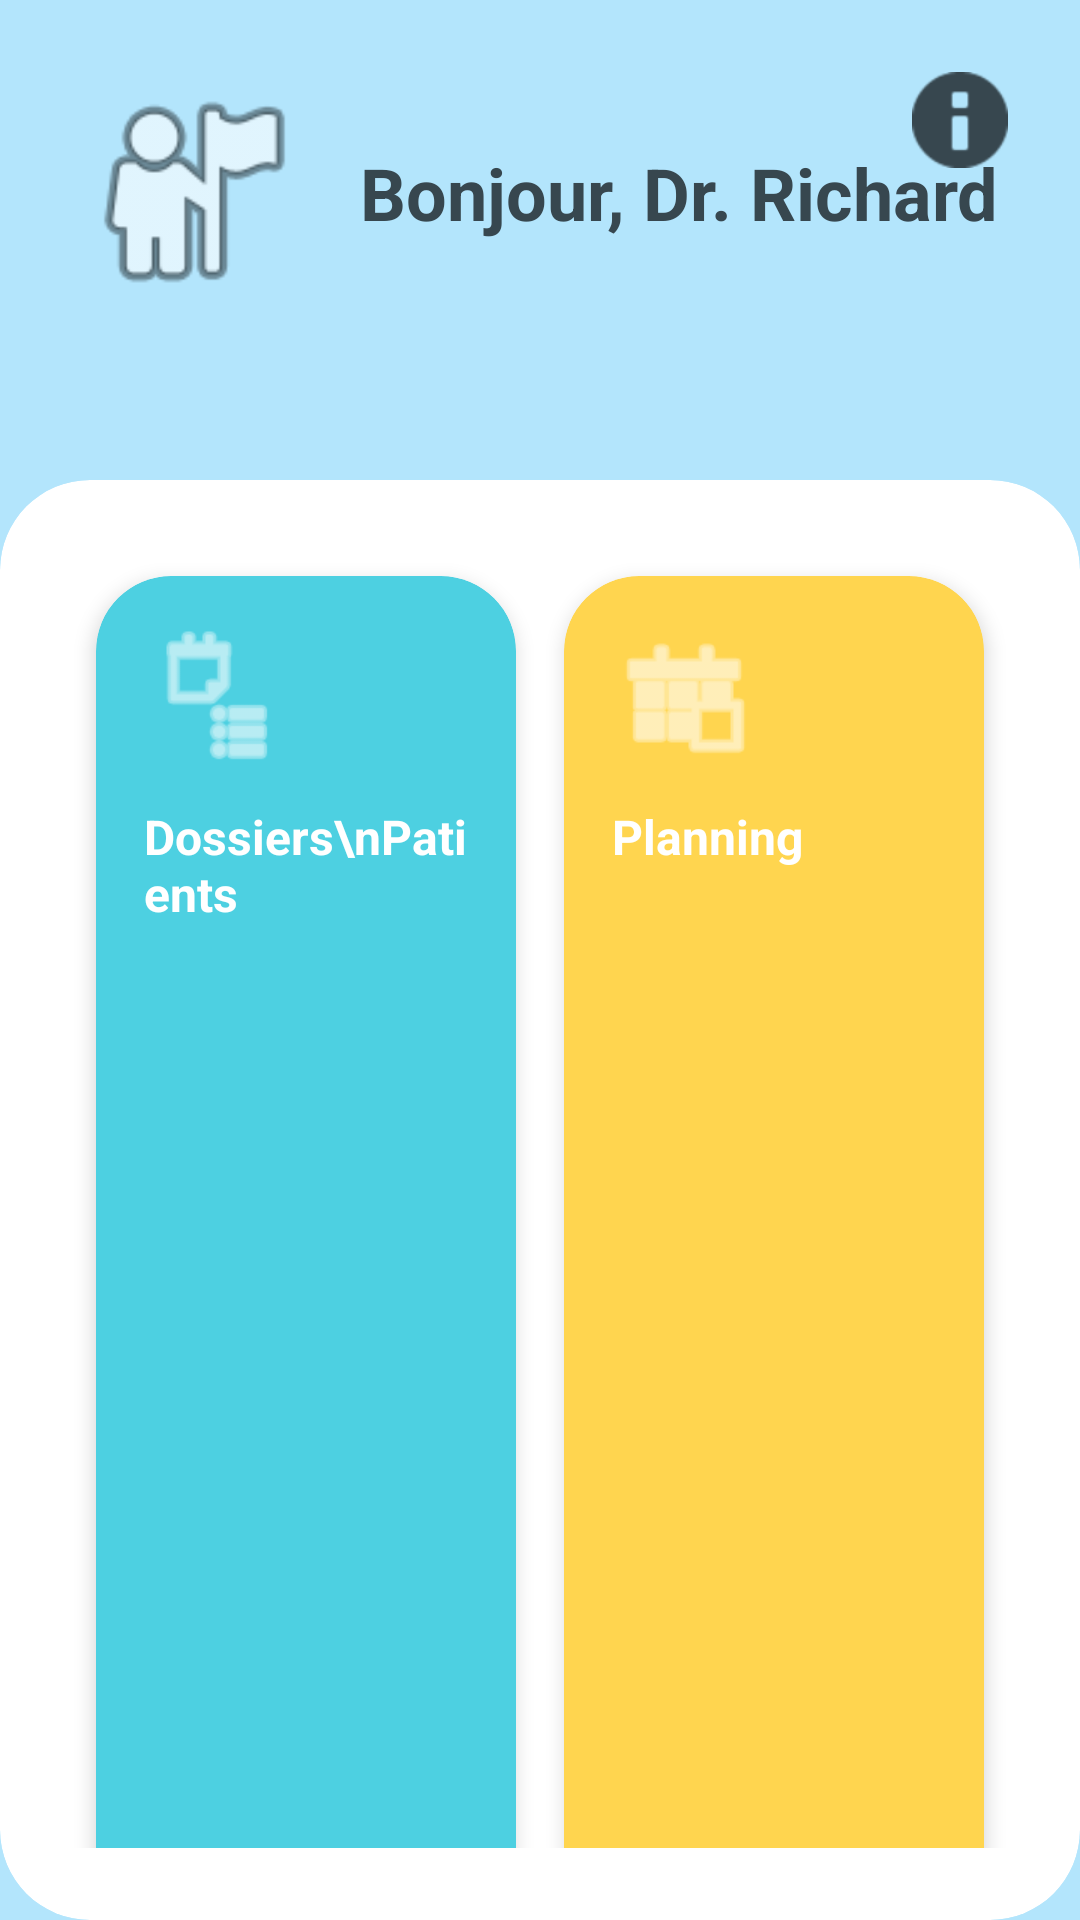

Icons on this 1080×1920 Android screen, each with the point to tap as point (x, y):
Dossiers Patients: point (216, 695)
